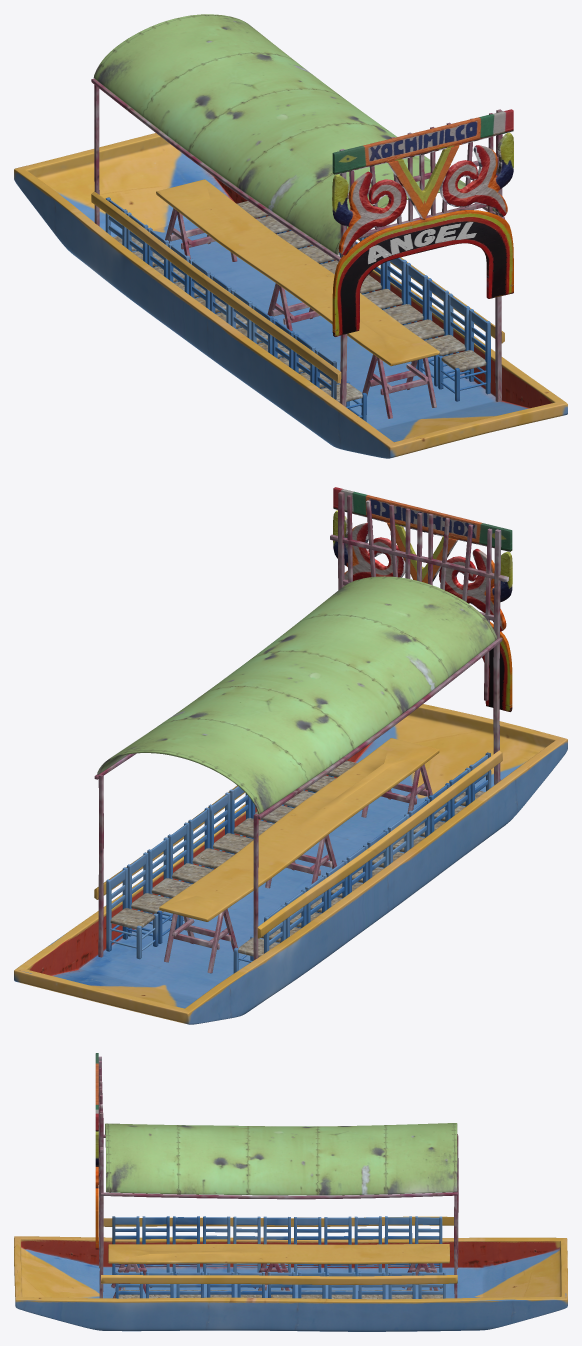
Rendered from trajinera4.obj.
The picture shows the model from 3 angles, top to bottom: view 1: azimuth 30°, elevation 25°; view 2: azimuth 150°, elevation 25°; view 3: azimuth 270°, elevation 25°; orthographic projection. The views are drawn at different scales.
Visible parts, largest first — view 1: Trajineral_GEO_barcaza_Decimated_defaultMat1_001, Trajinera_Cartel_GEO_lambert2_001; view 2: Trajineral_GEO_barcaza_Decimated_defaultMat1_001, Trajinera_Cartel_GEO_lambert2_001; view 3: Trajineral_GEO_barcaza_Decimated_defaultMat1_001, Trajinera_Cartel_GEO_lambert2_001.
Part boxes in pixels (bbox=[...]): Trajineral_GEO_barcaza_Decimated_defaultMat1_001: bbox=[14, 14, 567, 458]; Trajinera_Cartel_GEO_lambert2_001: bbox=[332, 109, 513, 336]; Trajineral_GEO_barcaza_Decimated_defaultMat1_001: bbox=[14, 491, 567, 1024]; Trajinera_Cartel_GEO_lambert2_001: bbox=[333, 487, 512, 711]; Trajineral_GEO_barcaza_Decimated_defaultMat1_001: bbox=[14, 1056, 567, 1331]; Trajinera_Cartel_GEO_lambert2_001: bbox=[95, 1053, 98, 1249].
Bounding box in the file's own units: 27.57 × 43.66 × 101.
2 materials, 2 textured.
